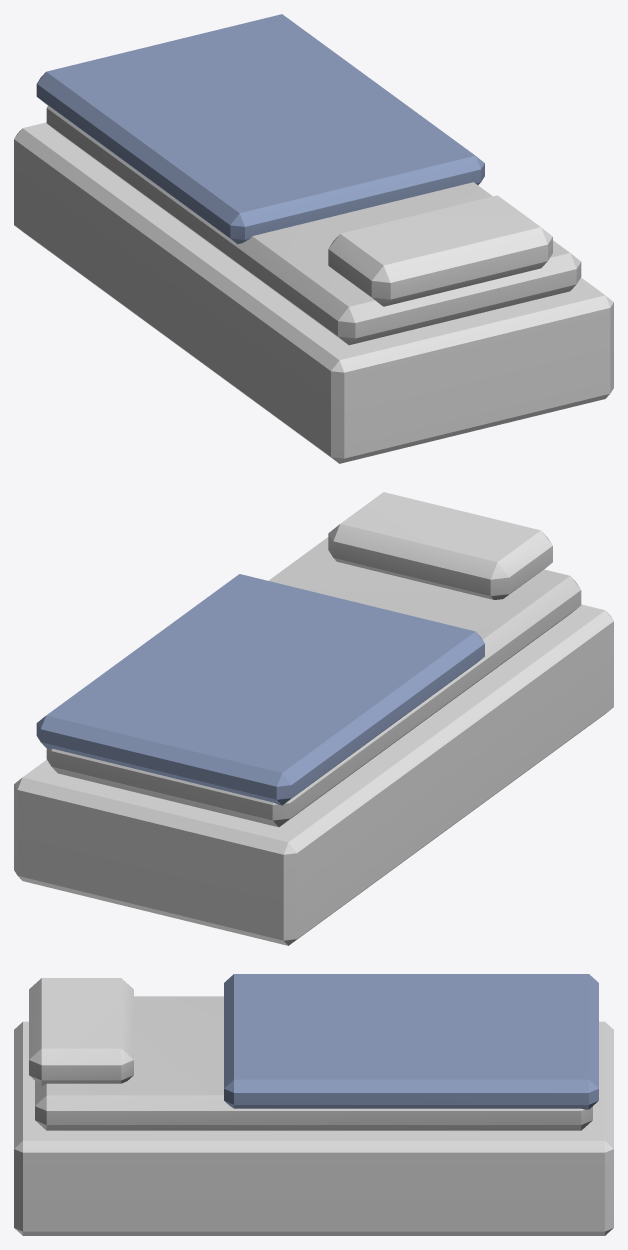
File: bed_1.glb
3 renders of one model, top to bottom at view 1: azimuth 30°, elevation 25°; view 2: azimuth 150°, elevation 25°; view 3: azimuth 270°, elevation 25°, orthographic. The views are drawn at different scales.
Parts seen in each view (by area): view 1: bed_blanket; view 2: bed_blanket; view 3: bed_blanket.
Boxes of the visible parts, x1,y1,x2,y2 form: bed_blanket: (14, 14, 613, 463); bed_blanket: (14, 492, 613, 945); bed_blanket: (14, 974, 613, 1235).
Size of the model in its own units: 1 by 0.6 by 2.
